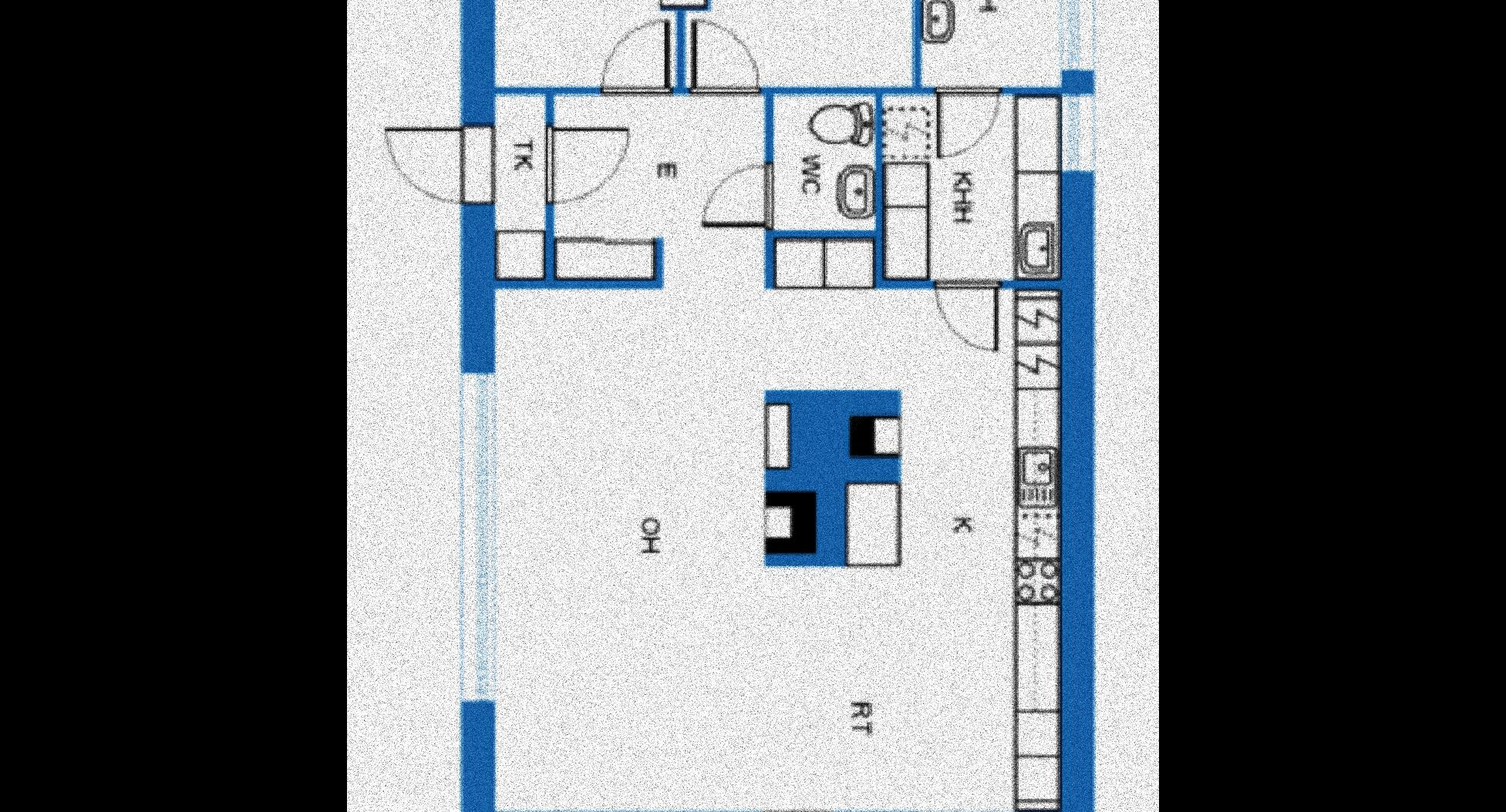door: (384, 124, 498, 203), (543, 124, 628, 205), (597, 19, 674, 98), (936, 78, 1001, 168), (691, 17, 759, 97), (927, 278, 1000, 352), (696, 162, 772, 228)
window: (463, 374, 499, 699), (1060, 0, 1095, 72), (1058, 97, 1092, 170)
zone: (495, 96, 1012, 812), (491, 293, 1058, 812), (884, 100, 1059, 279), (690, 0, 913, 80), (495, 0, 679, 86), (778, 97, 875, 229), (922, 0, 1066, 86), (499, 97, 545, 272)
